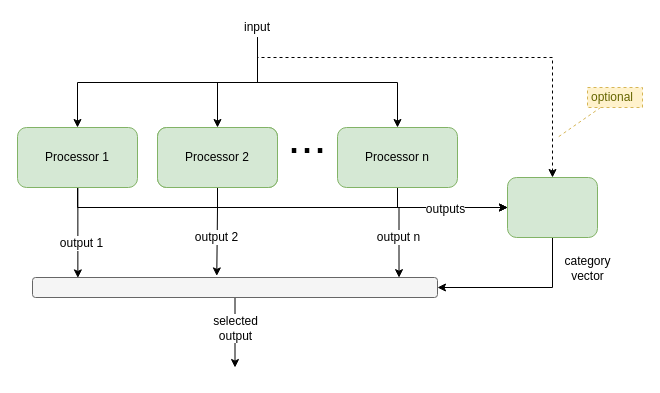
Image size: 660x393. Some labels were removed from this diagram. The shapes that lost their labels are listed below. From the top down, each one's box as (x1, y1, x2, y2) in pixels, then its label:
(506, 176, 598, 238): Selector
(32, 276, 438, 298): gate
